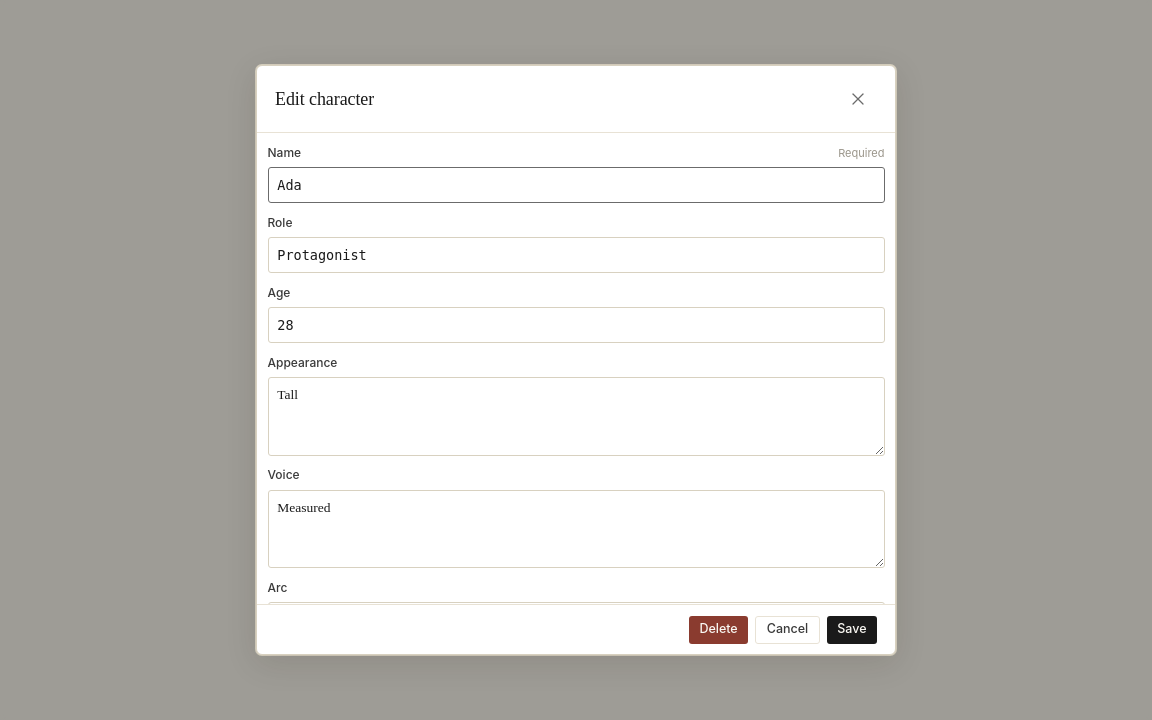
CharacterSheet (F19) › Delete button opens an in-modal confirm dialog (alertdialog)
Expected: the field labelled "Name Required" holds "Ada", left=268, top=167, right=884, bottom=203
What coordinates should you click on to do the following:
click the button "Delete"
I would click on:
 (719, 630)
Its box is left=689, top=616, right=748, bottom=644.
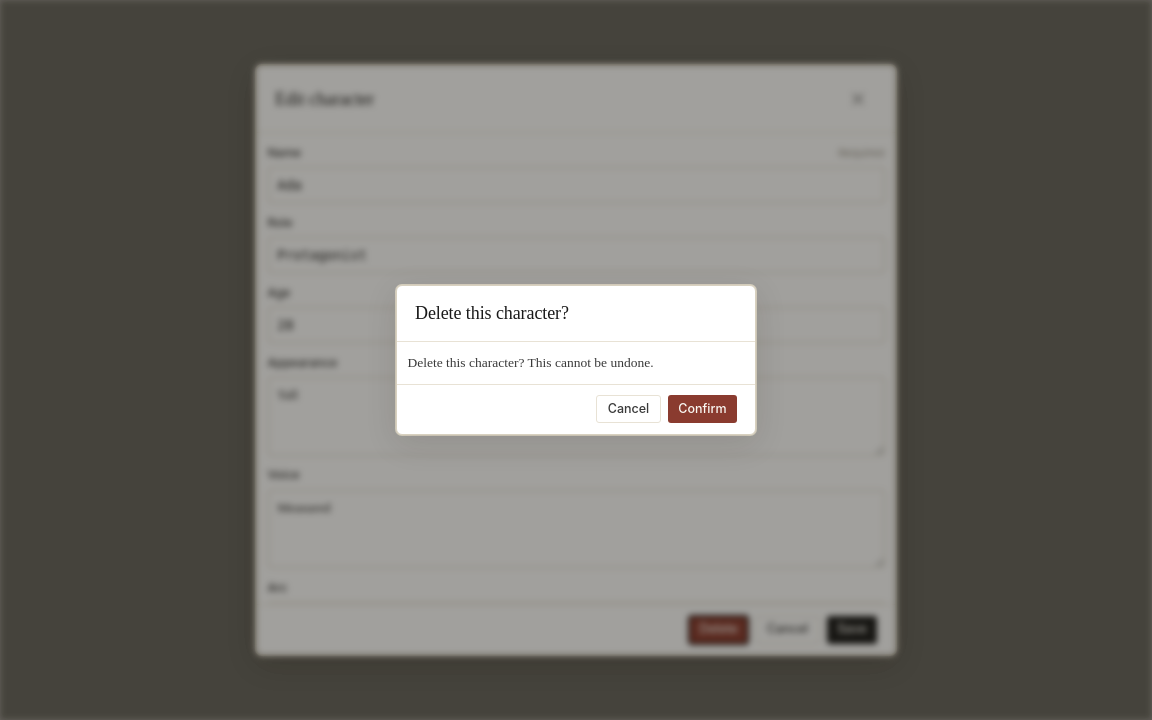
Expected: the dialog is shown, left=396, top=285, right=756, bottom=435
Expected: the text "Delete this character? This cannot be undone." is shown, left=408, top=354, right=654, bottom=370
